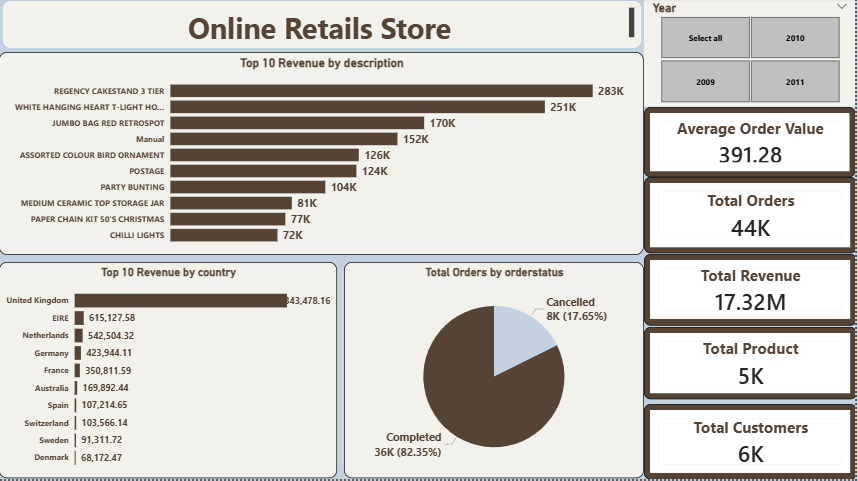

What the dashboard file says about the page in this screenshot:
{"tool":"powerbi","page":{"name":"EXECUTIVE OVERVIEW","canvas":[1280,720],"ordinal":0},"visuals":[{"type":"cardVisual","fields":{"Data":["customers.Total Revenue"]},"box":[962.9,383.4,317.6,106.8],"z":0},{"type":"cardVisual","fields":{"Data":["customers.Total Customers"]},"box":[962.9,607.3,317.6,112.7],"z":1000},{"type":"cardVisual","fields":{"Data":["orders.Average Order Value"]},"box":[962.9,163.9,316.1,105.4],"z":2000},{"type":"cardVisual","fields":{"Data":["orders.Total Orders"]},"box":[962.9,269.3,317.6,114.1],"z":3000},{"type":"cardVisual","fields":{"Data":["products.Total Product"]},"box":[962.9,493.2,317.6,108.3],"z":4000},{"type":"clusteredBarChart","title":"Top 10 Revenue by country","fields":{"Y":["customers.Total Revenue"],"Category":["customers.country"]},"box":[0,396.6,504.9,323.4],"z":5000},{"type":"clusteredBarChart","title":"Top 10 Revenue by description","fields":{"Category":["products.description"],"Y":["customers.Total Revenue"]},"box":[0,82,962.9,302.9],"z":6000},{"type":"pieChart","fields":{"Series":["orders.orderstatus"],"Y":["orders.Total Orders"]},"box":[515.1,396.6,447.8,323.4],"z":8000},{"type":"textbox","box":[5.9,5.9,952.7,70.2],"z":9000},{"type":"slicer","fields":{"Values":["DateTable.Year"]},"box":[962.9,0,316.1,163.9],"z":10000}]}

Visuals, with their boxes in screenshot pixels (x1, y1, x2, y2), scaled from the page's 1280x720 canvas onto the 858x481 screenshot:
cardVisual - customers.Total Revenue: <box>645,256,857,327</box>
cardVisual - customers.Total Customers: <box>645,406,857,480</box>
cardVisual - orders.Average Order Value: <box>645,109,857,180</box>
cardVisual - orders.Total Orders: <box>645,180,857,256</box>
cardVisual - products.Total Product: <box>645,329,857,402</box>
"Top 10 Revenue by country" clusteredBarChart: <box>0,265,338,480</box>
"Top 10 Revenue by description" clusteredBarChart: <box>0,55,645,257</box>
pieChart - orders.orderstatus x orders.Total Orders: <box>345,265,645,480</box>
textbox: <box>4,4,643,51</box>
slicer - DateTable.Year: <box>645,0,857,109</box>
